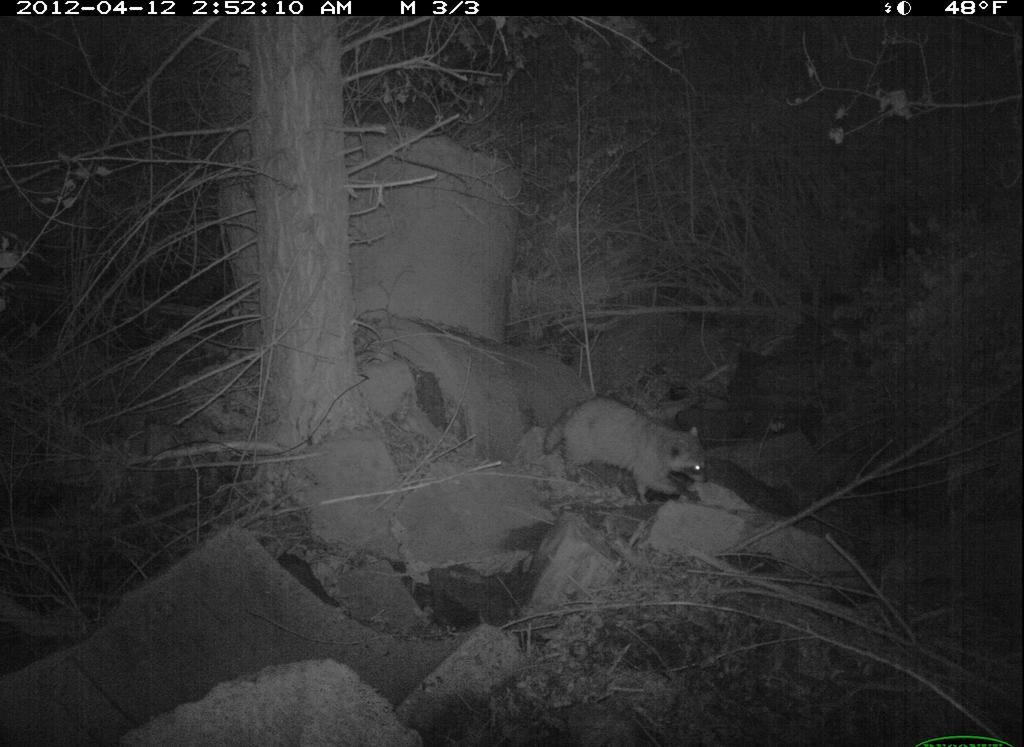raccoon: (550, 360, 720, 509)
